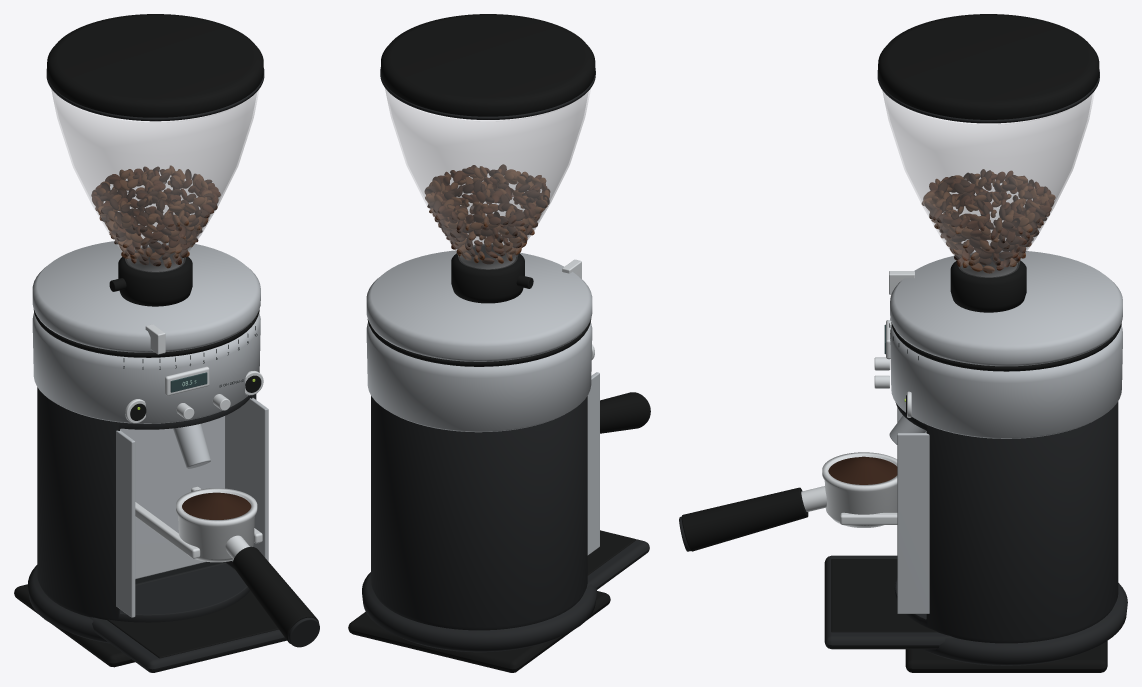
The model's file is coffee-grinder.glb.
3 views of the same model, side by side, from view 1: azimuth 30°, elevation 25°; view 2: azimuth 150°, elevation 25°; view 3: azimuth 270°, elevation 25° (orthographic). The views are drawn at different scales.
Parts seen in each view (by area): view 1: Motor housing with recessed work bay, Transparent acrylic hopper, Hopper lid, Grind adjustment dial, Control head, Beans inside hopper, Stainless work bay back, Catch tray inner surface, Work bay stainless cheek.001, Work bay stainless cheek, Portafilter basket, Portafilter grip (+12 smaller); view 2: Motor housing with recessed work bay, Transparent acrylic hopper, Hopper lid, Grind adjustment dial, Control head, Beans inside hopper, Cast metal base, Hopper mounting collar, Rubber foot, Work bay stainless cheek, Portafilter grip, Adjustment seam (+3 smaller); view 3: Motor housing with recessed work bay, Transparent acrylic hopper, Hopper lid, Grind adjustment dial, Control head, Beans inside hopper, Work bay stainless cheek.001, Catch tray inner surface, Cast metal base, Portafilter grip, Hopper mounting collar, Portafilter basket (+6 smaller).
Part boxes in pixels (<box>): Motor housing with recessed work bay: <box>37,387,256,622</box>; Transparent acrylic hopper: <box>51,89,259,272</box>; Hopper lid: <box>47,14,263,117</box>; Grind adjustment dial: <box>32,241,260,352</box>; Control head: <box>32,312,260,423</box>; Beans inside hopper: <box>91,165,220,268</box>; Stainless work bay back: <box>120,416,225,579</box>; Catch tray inner surface: <box>107,590,278,658</box>; Work bay stainless cheek.001: <box>225,398,268,561</box>; Work bay stainless cheek: <box>116,430,135,617</box>; Portafilter basket: <box>176,488,257,562</box>; Portafilter grip: <box>233,546,318,643</box>; Motor housing with recessed work bay: <box>371,396,587,630</box>; Transparent acrylic hopper: <box>385,88,590,269</box>; Hopper lid: <box>381,14,595,116</box>; Grind adjustment dial: <box>366,250,592,361</box>; Control head: <box>366,321,592,432</box>; Beans inside hopper: <box>424,164,550,264</box>; Cast metal base: <box>362,572,596,652</box>; Hopper mounting collar: <box>451,244,524,303</box>; Rubber foot: <box>348,591,610,672</box>; Work bay stainless cheek: <box>587,372,599,555</box>; Portafilter grip: <box>600,392,650,433</box>; Adjustment seam: <box>367,319,591,366</box>; Motor housing with recessed work bay: <box>894,401,1118,643</box>; Transparent acrylic hopper: <box>882,91,1094,277</box>; Hopper lid: <box>878,14,1099,119</box>; Grind adjustment dial: <box>890,251,1122,366</box>; Control head: <box>890,325,1122,438</box>; Beans inside hopper: <box>921,169,1055,273</box>; Work bay stainless cheek.001: <box>897,433,929,613</box>; Catch tray inner surface: <box>831,559,937,632</box>; Cast metal base: <box>922,583,1127,665</box>; Portafilter grip: <box>681,487,808,551</box>; Hopper mounting collar: <box>950,252,1026,312</box>; Portafilter basket: <box>822,452,897,527</box>.
Bounding box in the file's own units: 0.204 × 0.533 × 0.3774.
